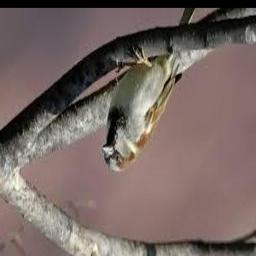Sparrow: (102, 8, 196, 172)
